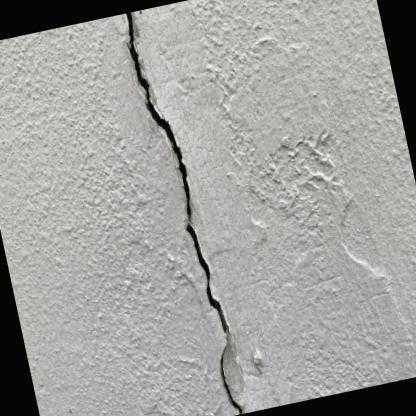crack: (125, 12, 191, 219), (186, 223, 242, 414)
